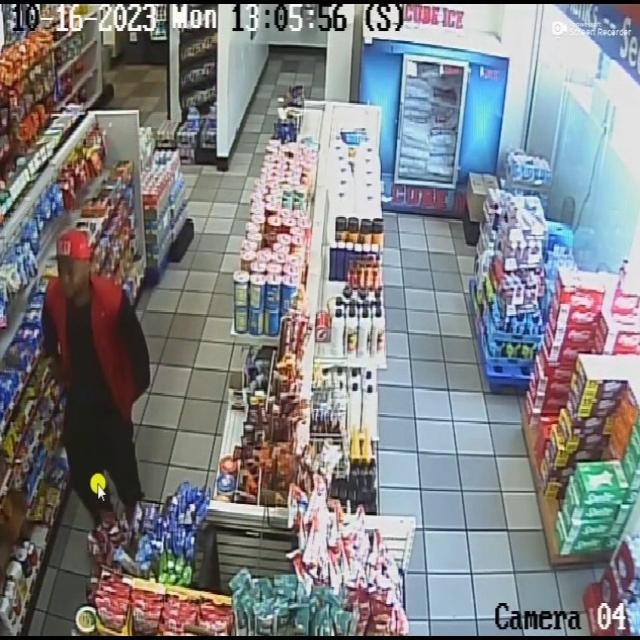Normal: (45, 217, 144, 541)
